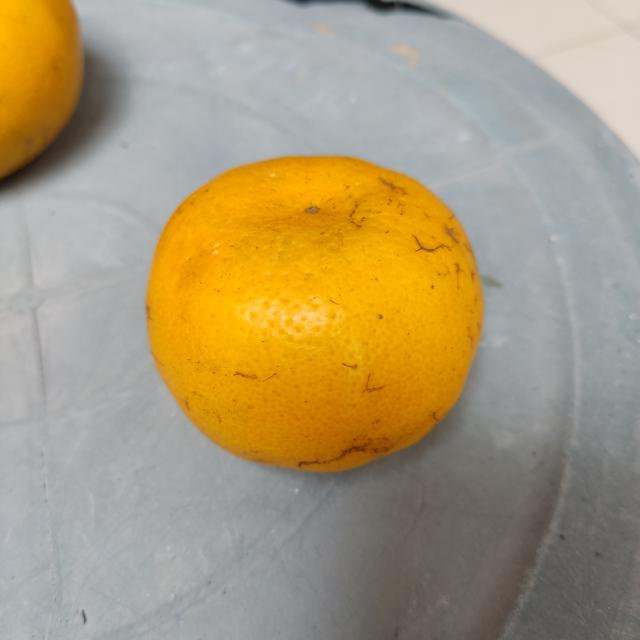orange: (143, 154, 483, 474)
